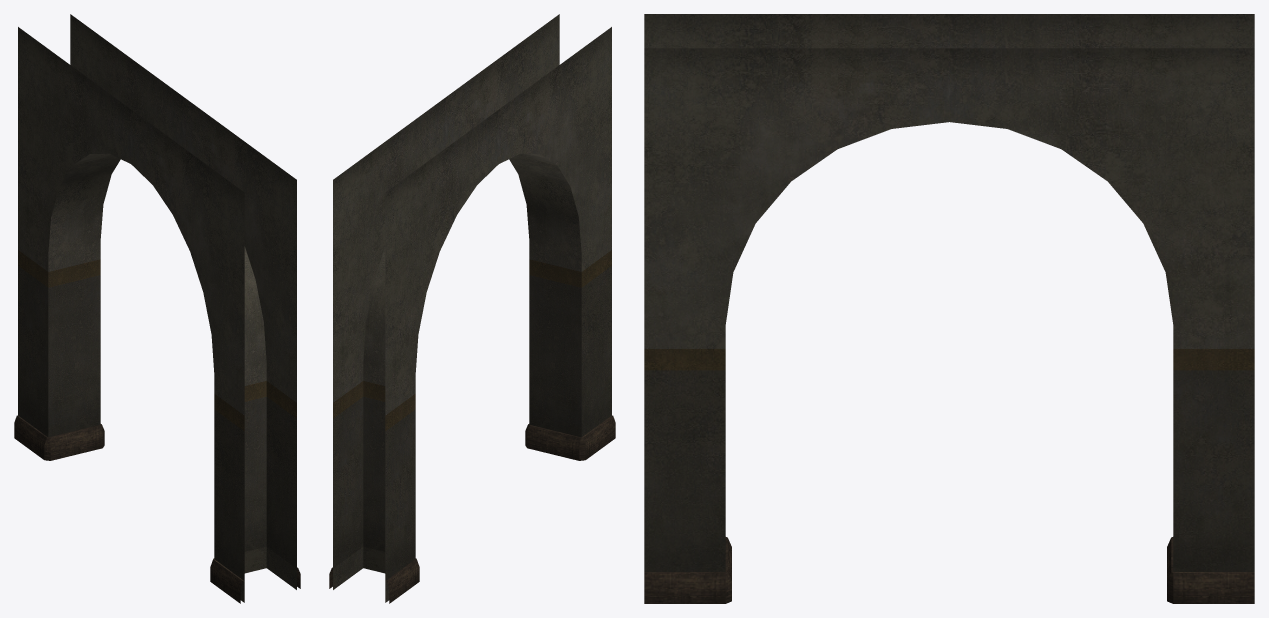
File: arc_2_wall_1.obj
The picture shows the model from 3 angles, left to right: view 1: azimuth 30°, elevation 25°; view 2: azimuth 150°, elevation 25°; view 3: azimuth 270°, elevation 25°; orthographic projection. The views are drawn at different scales.
Visible parts, largest first — view 1: arc_2_wall_1; view 2: arc_2_wall_1; view 3: arc_2_wall_1.
Part boxes in pixels (<box>): arc_2_wall_1: <box>14,14,300,603</box>; arc_2_wall_1: <box>329,14,615,603</box>; arc_2_wall_1: <box>644,14,1254,603</box>.
Bounding box in the file's own units: 0.46 × 3 × 3.
